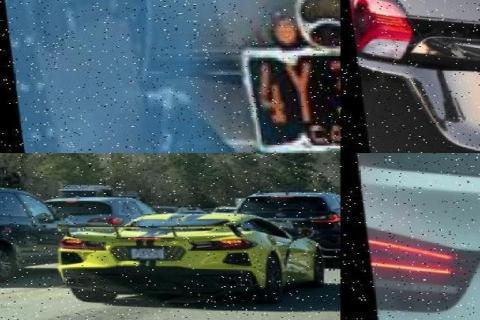LicensePlate: (238, 51, 340, 132), (124, 246, 159, 260)
